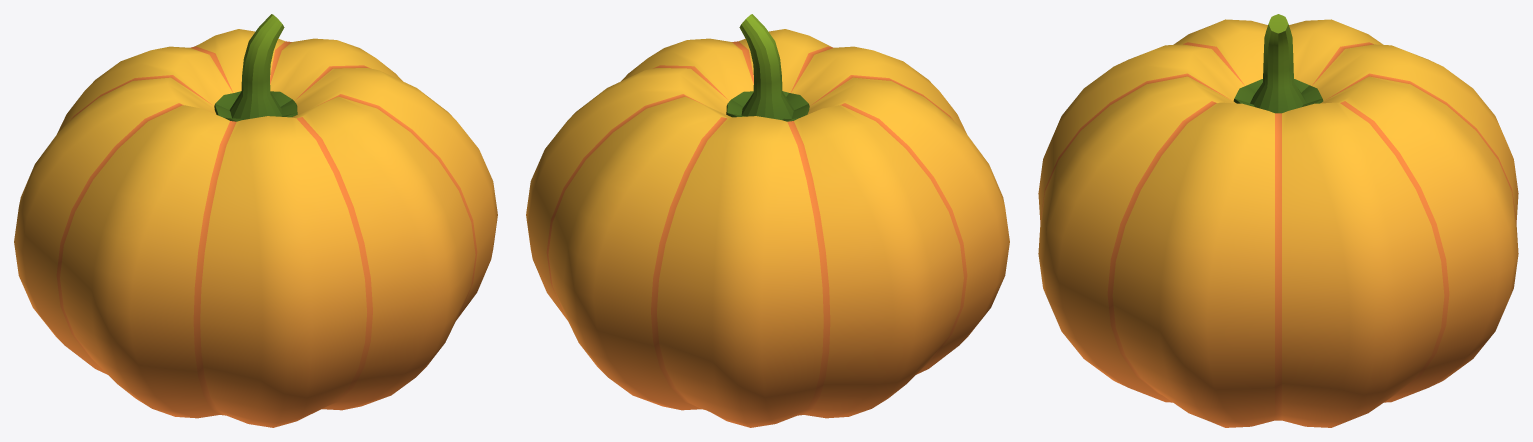
The model's file is Pumpkin.fbx.
3 views of the same model, side by side, from view 1: azimuth 30°, elevation 25°; view 2: azimuth 150°, elevation 25°; view 3: azimuth 270°, elevation 25° (orthographic). The views are drawn at different scales.
Parts seen in each view (by area): view 1: Pumpkin; view 2: Pumpkin; view 3: Pumpkin.
Boxes of the visible parts, box(x1,y1,x2,y2) form: Pumpkin: box(14, 14, 497, 427); Pumpkin: box(526, 14, 1009, 427); Pumpkin: box(1038, 14, 1518, 427).
Size of the model in its own units: 1.02 by 0.8873 by 1.02.
1 material, 1 textured.
